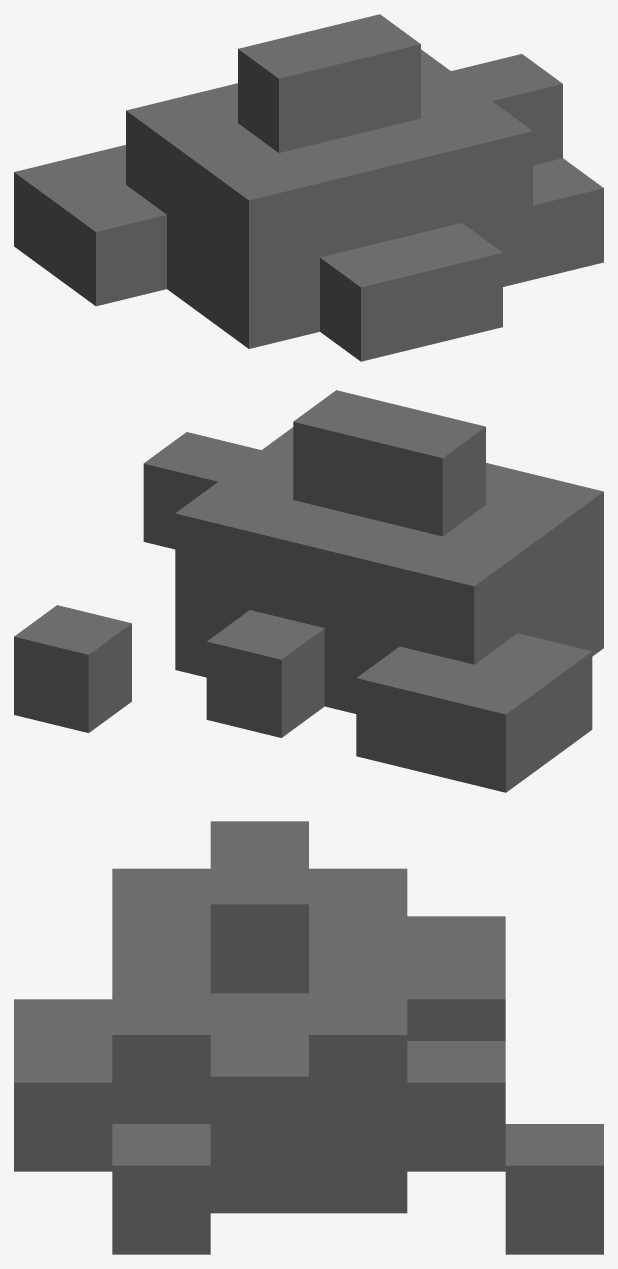
The model's file is MediumStone.obj.
3 renders of one model, top to bottom at view 1: azimuth 30°, elevation 25°; view 2: azimuth 150°, elevation 25°; view 3: azimuth 270°, elevation 25°, orthographic. The views are drawn at different scales.
Bounding box in the file's own units: 6 × 3 × 6.
1 material, 1 textured.
